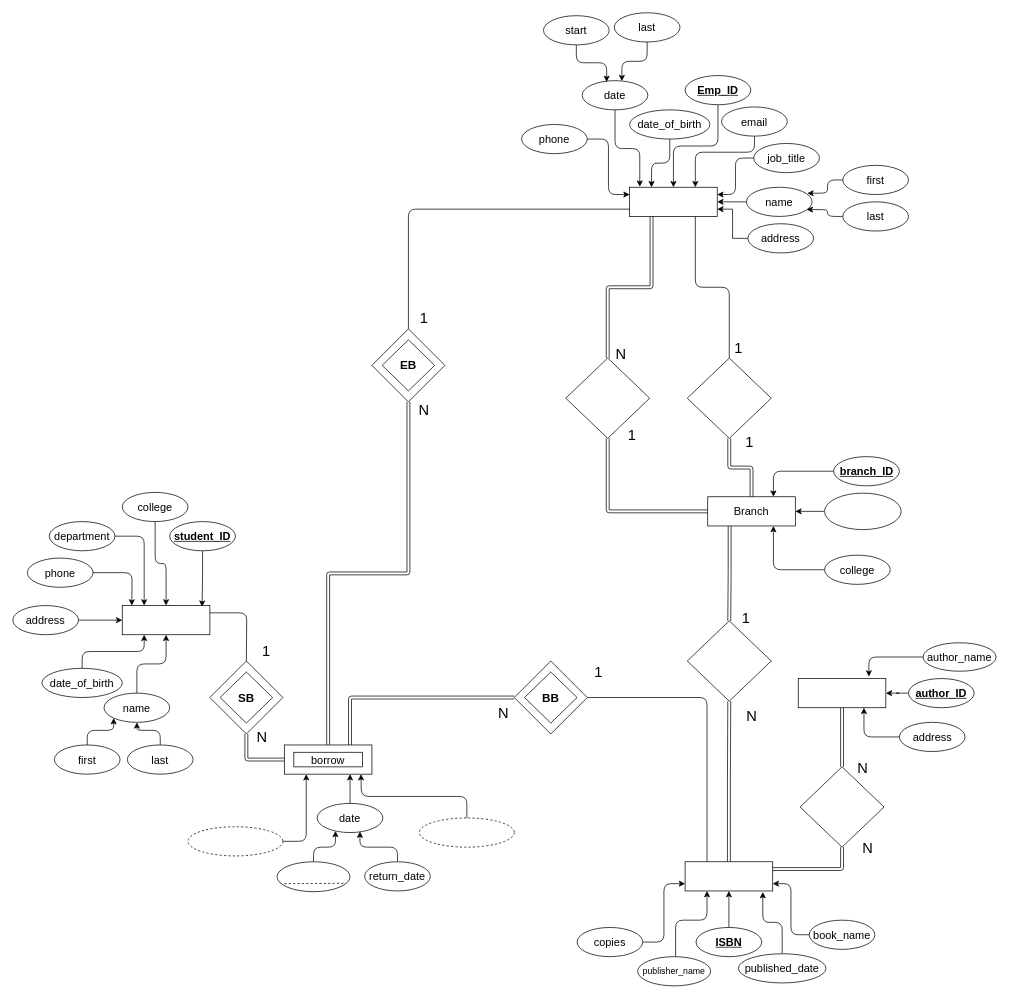
Image size: 1009x999. Some labels were removed from this diagram. The shapes that lost their labels are listed below. From the top down, each one's box as (x1, y1, x2, y2) in pixels, then its label:
(629, 187, 717, 216): Employee
(565, 357, 650, 438): works_for
(687, 357, 771, 438): manages
(824, 492, 901, 530): branch_name
(122, 605, 210, 635): Student
(687, 620, 771, 701): related
(798, 678, 886, 708): Author
(799, 766, 884, 847): published_by
(187, 826, 283, 856): Black_list
(419, 817, 514, 847): num_of_borrow
(276, 861, 350, 892): borrow_date
(684, 861, 773, 891): Book
